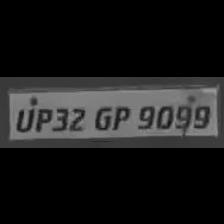0: (153, 100, 173, 130)
2: (66, 103, 86, 131)
3: (52, 102, 68, 132)
9: (190, 100, 212, 130), (134, 101, 154, 129), (174, 100, 190, 130)
G: (88, 102, 110, 134)
P: (112, 99, 132, 133), (32, 103, 52, 131)
U: (12, 102, 34, 132)
